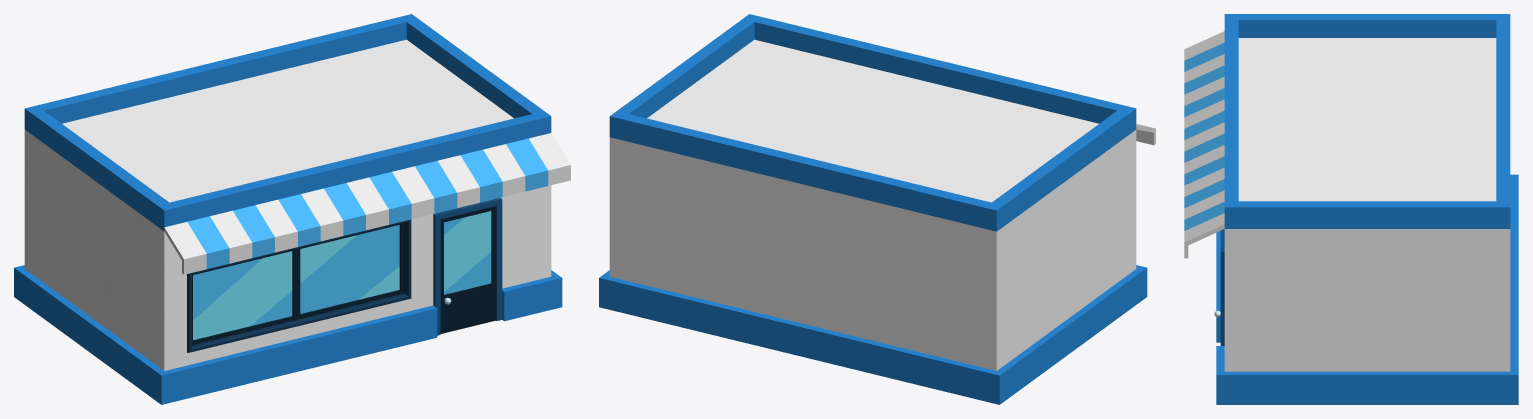
Rendered from Env_CommercialBuilding_04.fbx.
3 renders of one model, left to right at view 1: azimuth 30°, elevation 25°; view 2: azimuth 150°, elevation 25°; view 3: azimuth 270°, elevation 25°, orthographic. The views are drawn at different scales.
Parts seen in each view (by area): view 1: Env_CommercialBuilding_04; view 2: Env_CommercialBuilding_04; view 3: Env_CommercialBuilding_04.
Boxes of the visible parts, x1=… form: Env_CommercialBuilding_04: x1=14, y1=14, x2=570, y2=404; Env_CommercialBuilding_04: x1=599, y1=14, x2=1155, y2=404; Env_CommercialBuilding_04: x1=1184, y1=14, x2=1518, y2=404.
Bounding box in the file's own units: 994 × 450 × 701.
